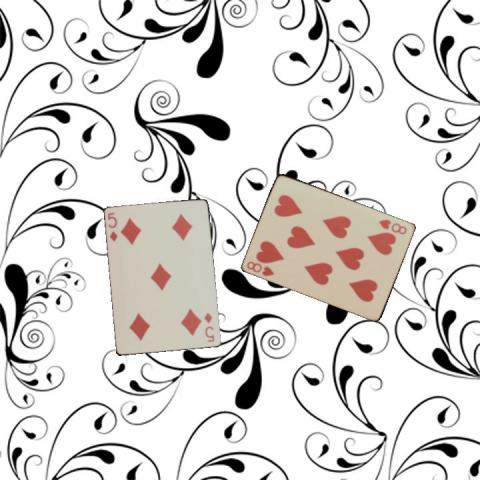5d: (201, 310, 216, 343), (106, 210, 120, 243)
8h: (376, 216, 409, 236), (244, 258, 276, 277)
